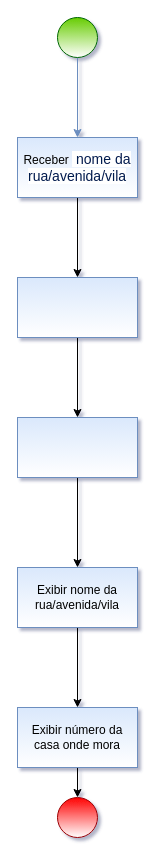
Some shapes in this 161 by 861 pixel diagram are drawn without their labels. The centre of each missing label's shape, as x and y in pixels:
Clicar no botão "onde eu moro": point (77, 447)
Receber número da casa onde mora: point (77, 307)
